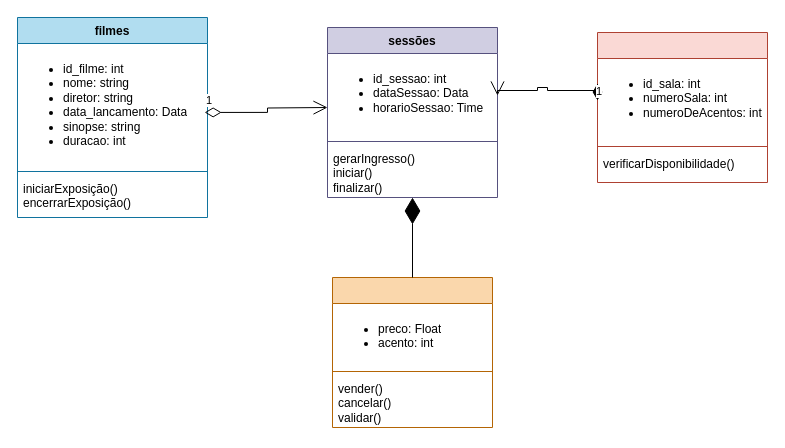
This 785x448 diagram has some shape labels left out. The box of each missing label's shape, as (x1, y1, x2, y2) in pixels:
ingressos: (332, 276, 492, 428)
salas: (596, 32, 768, 182)
